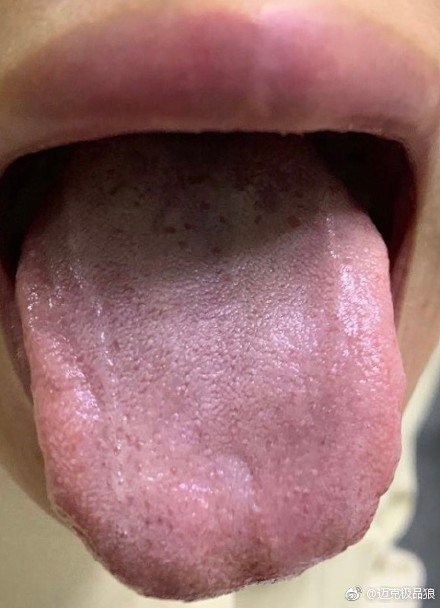baitaishe: (16, 137, 406, 599)
hongdianshe: (162, 221, 179, 238), (214, 211, 227, 226)
